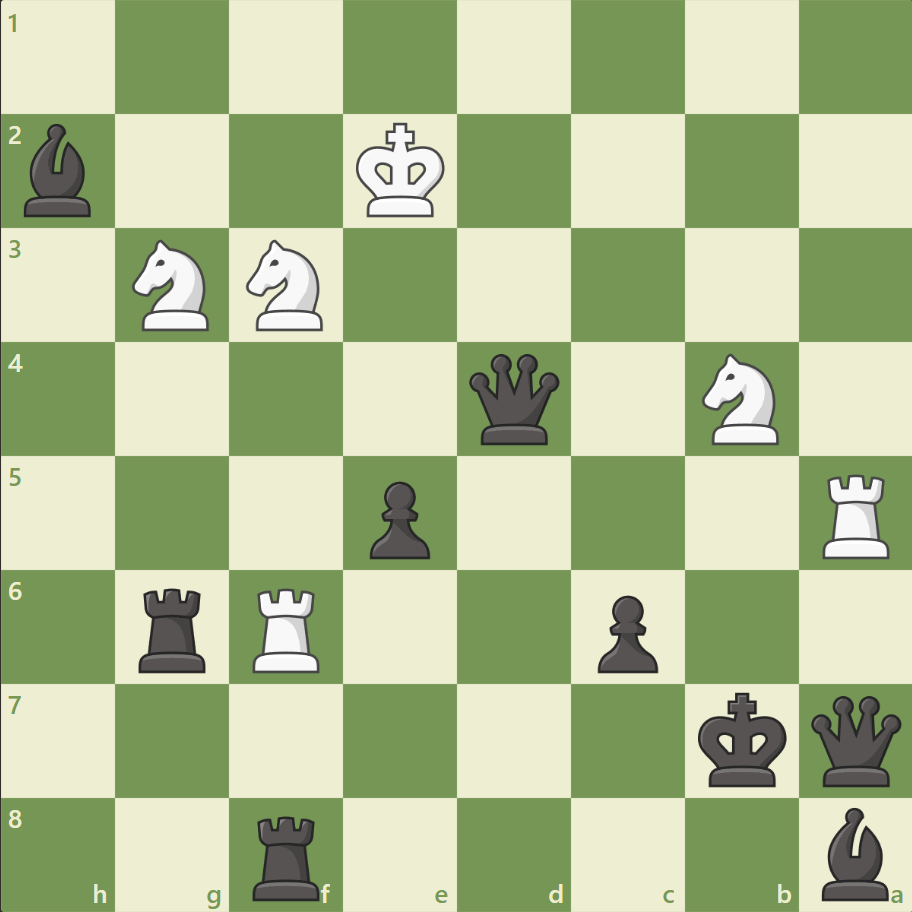K: (351, 117, 451, 225)
N: (124, 234, 222, 337), (238, 234, 335, 337), (692, 348, 789, 450)
R: (246, 579, 329, 676), (814, 466, 897, 563)
b: (812, 801, 896, 904), (17, 120, 101, 222)
k: (692, 685, 792, 793)
p: (588, 586, 662, 677), (361, 473, 435, 564)
q: (464, 349, 563, 449), (805, 690, 904, 789)
r: (246, 806, 329, 904), (133, 579, 215, 676)
